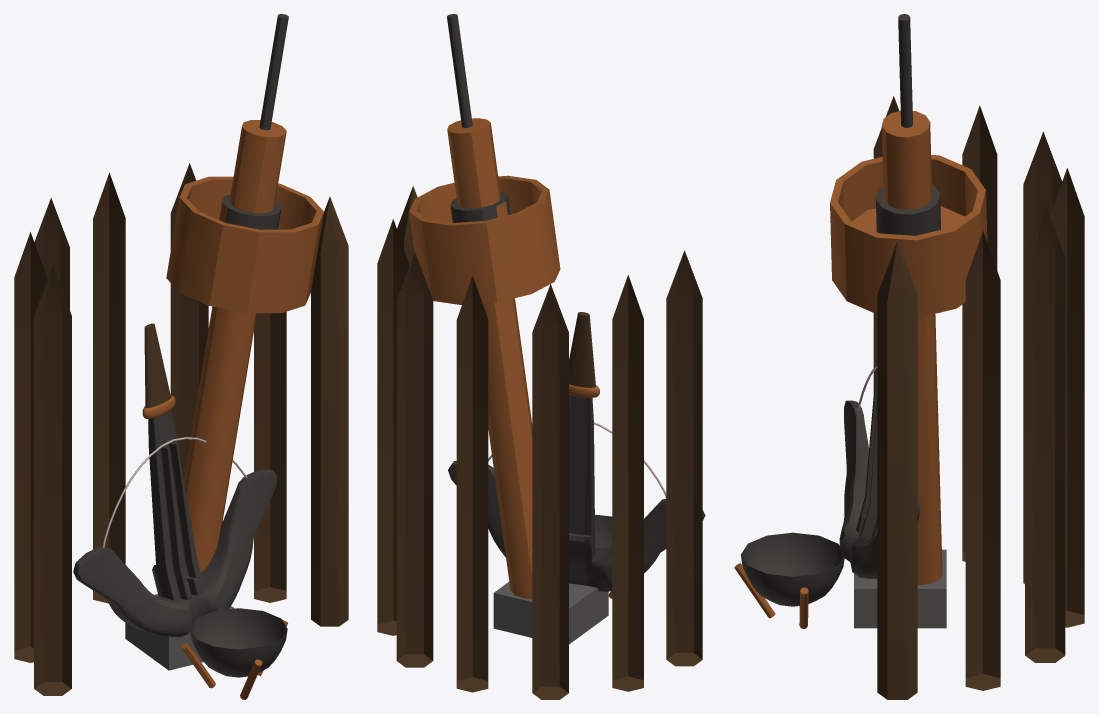
Rendered from estatua_ballesta.fbx.
3 views of the same model, side by side, from view 1: azimuth 30°, elevation 25°; view 2: azimuth 150°, elevation 25°; view 3: azimuth 270°, elevation 25° (orthographic). The views are drawn at different scales.
Visible parts, largest first — view 1: Cylinder.008, Cylinder.013, Cylinder.012, Sphere.002, Cube.001; view 2: Cylinder.008, Cylinder.013, Cylinder.012, Cube.001, Sphere.002; view 3: Cylinder.008, Cylinder.013, Cylinder.012, Sphere.002, Cube.001.
Part boxes in pixels (x1,y1,x2,y2): Cylinder.008: (14, 163, 348, 695); Cylinder.013: (166, 14, 323, 572); Cylinder.012: (73, 323, 277, 636); Sphere.002: (190, 608, 287, 677); Cube.001: (125, 594, 234, 670); Cylinder.008: (377, 186, 702, 699); Cylinder.013: (409, 14, 560, 598); Cylinder.012: (448, 312, 705, 591); Cube.001: (493, 582, 608, 644); Sphere.002: (595, 514, 612, 548); Cylinder.008: (873, 96, 1084, 699); Cylinder.013: (830, 14, 987, 585); Cylinder.012: (839, 366, 920, 578); Sphere.002: (741, 532, 844, 606); Cube.001: (854, 549, 946, 628).
Size of the model in its own units: 3460 by 6604 by 3207.
